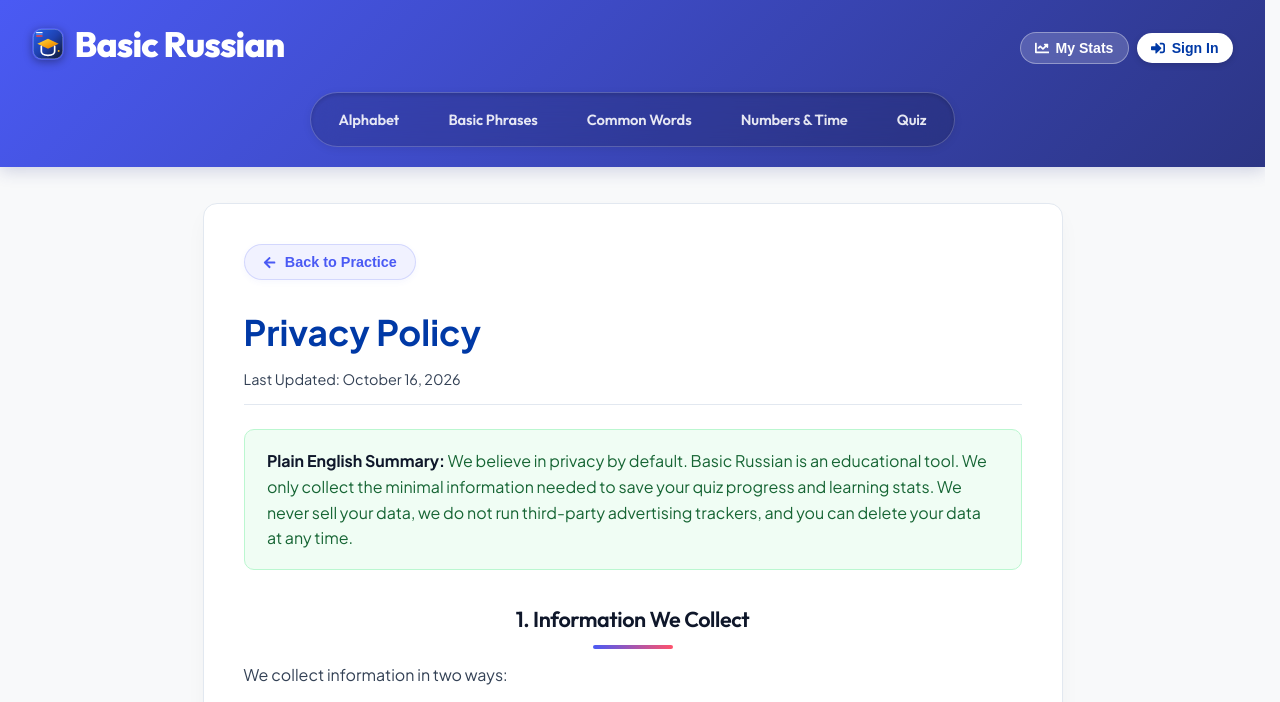
Test: App › navigates back to practice from Privacy Policy
Click the button with aria-label "back to practice lessons" at (330, 262), box x1=244 y1=244 x2=416 y2=280
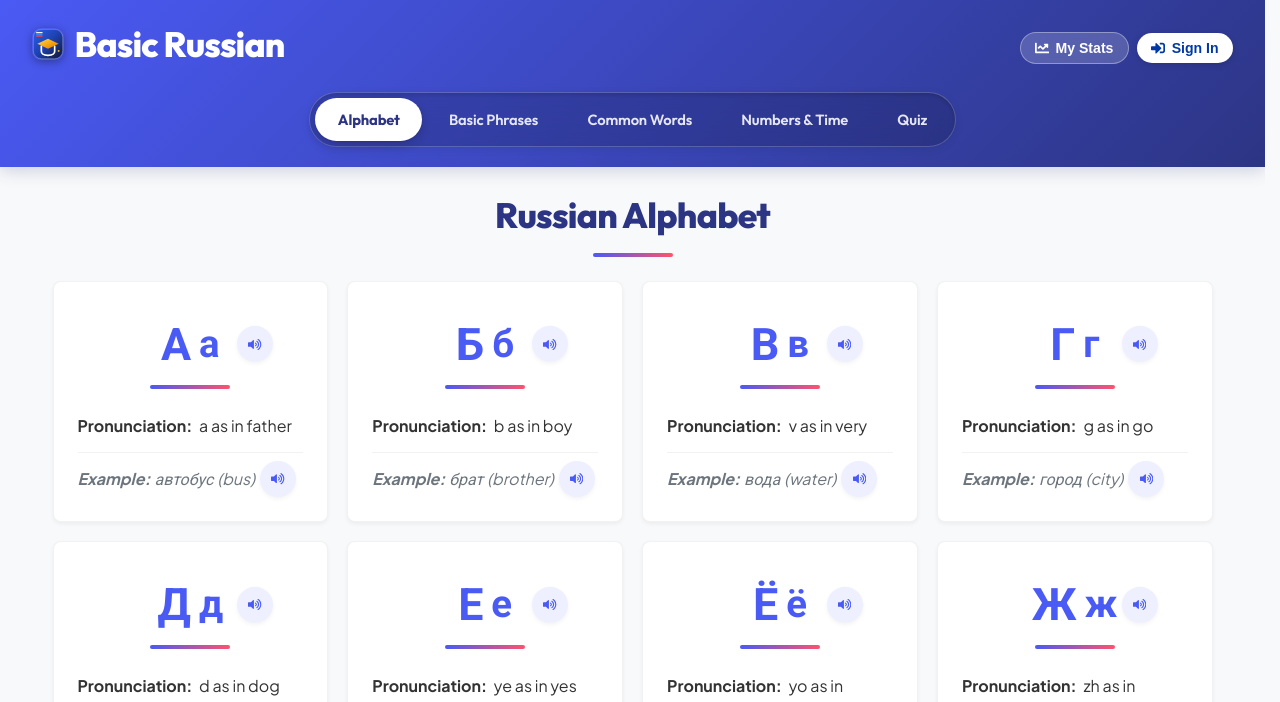
Now the heading "Russian Alphabet" is shown, box x1=495 y1=194 x2=770 y2=238
